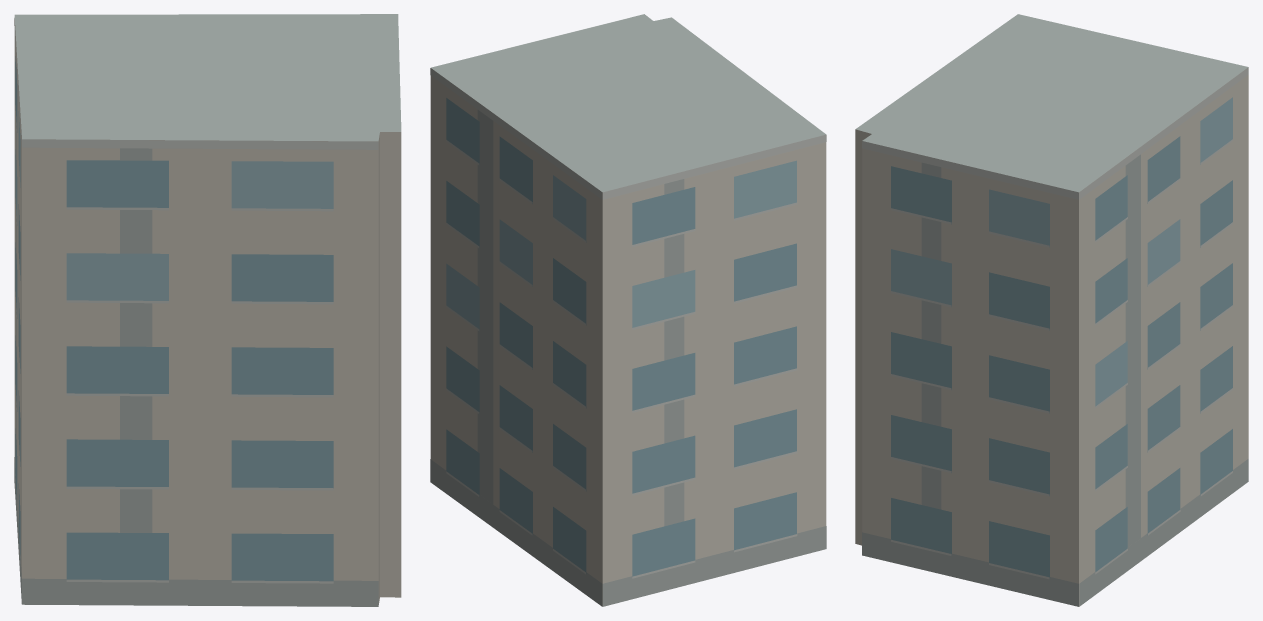
The model's file is survey-upis-32905311.glb.
3 renders of one model, left to right at view 1: azimuth 30°, elevation 25°; view 2: azimuth 150°, elevation 25°; view 3: azimuth 270°, elevation 25°, orthographic. The views are drawn at different scales.
Parts seen in each view (by area): view 1: survey-upis-32905311.tmp; view 2: survey-upis-32905311.tmp; view 3: survey-upis-32905311.tmp.
Boxes of the visible parts, x1,y1,x2,y2 form: survey-upis-32905311.tmp: (14, 14, 401, 606); survey-upis-32905311.tmp: (430, 14, 826, 606); survey-upis-32905311.tmp: (855, 14, 1248, 606).
Size of the model in its own units: 12.37 by 13.4 by 11.53.
